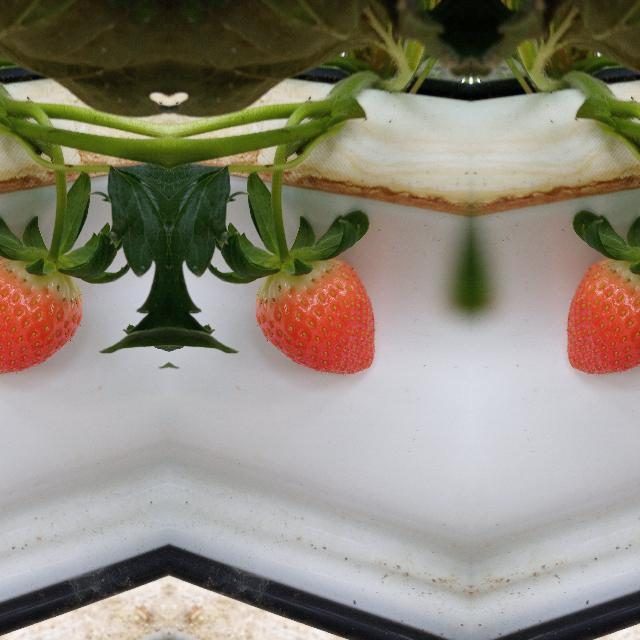Health_100: (254, 257, 376, 375), (0, 257, 82, 375), (564, 257, 640, 375)
